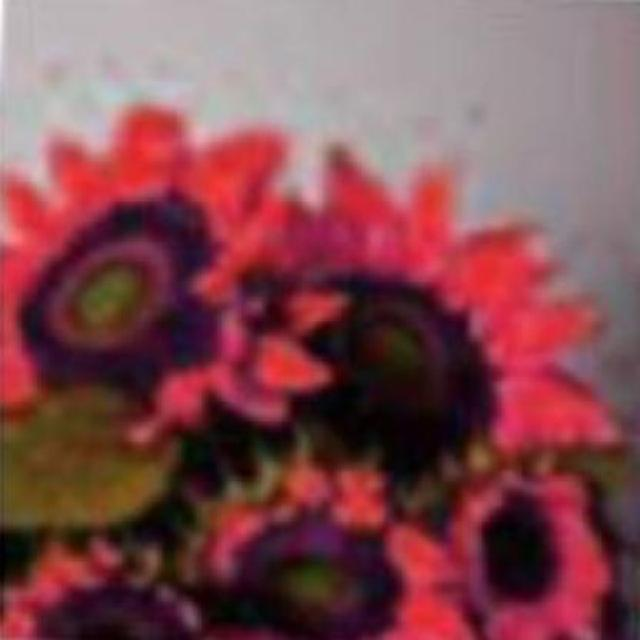sunflower: (219, 155, 616, 522), (0, 98, 288, 458)
